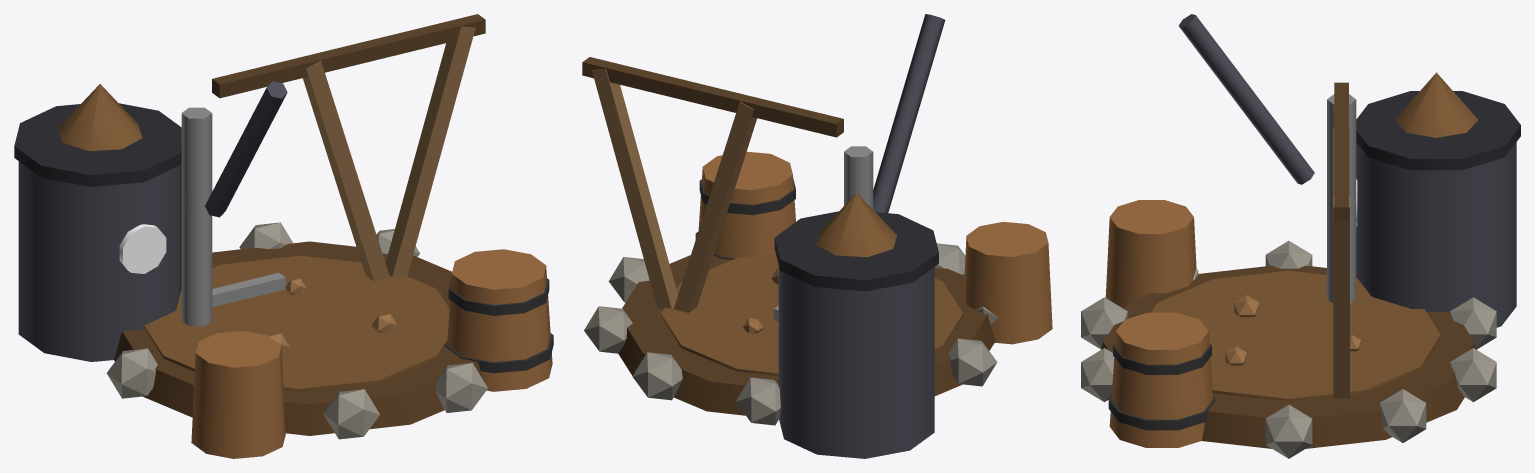
File: level3.glb
3 views of the same model, side by side, from view 1: azimuth 30°, elevation 25°; view 2: azimuth 150°, elevation 25°; view 3: azimuth 270°, elevation 25° (orthographic). The views are drawn at different scales.
Visible parts, largest first — view 1: object 26, object 2, object 1, object 24, object 11, object 27, object 9, object 7, lever, object 6, object 29, object 25 (+8 smaller); view 2: object 26, object 2, object 1, object 24, object 27, object 11, object 7, lever, object 6, object 25, object 29, object 22 (+7 smaller); view 3: object 26, object 2, object 1, object 11, object 27, object 24, object 25, object 29, object 7, object 9, lever, object 14 (+9 smaller).
Boxes of the visible parts, x1=… form: object 26: x1=18, y1=160, x2=181, y2=361; object 2: x1=144, y1=255, x2=449, y2=391; object 1: x1=114, y1=241, x2=483, y2=435; object 24: x1=191, y1=331, x2=285, y2=458; object 11: x1=447, y1=249, x2=552, y2=391; object 27: x1=14, y1=103, x2=181, y2=186; object 9: x1=181, y1=107, x2=212, y2=326; object 7: x1=385, y1=26, x2=475, y2=277; lever: x1=212, y1=14, x2=485, y2=98; object 6: x1=303, y1=61, x2=389, y2=281; object 29: x1=58, y1=84, x2=142, y2=151; object 25: x1=205, y1=81, x2=287, y2=217; object 26: x1=778, y1=265, x2=934, y2=458; object 2: x1=661, y1=253, x2=962, y2=376; object 1: x1=618, y1=255, x2=995, y2=415; object 24: x1=963, y1=222, x2=1052, y2=344; object 27: x1=774, y1=211, x2=938, y2=291; object 11: x1=698, y1=151, x2=795, y2=257; object 7: x1=592, y1=69, x2=677, y2=309; lever: x1=582, y1=57, x2=843, y2=137; object 6: x1=674, y1=101, x2=756, y2=312; object 25: x1=873, y1=14, x2=945, y2=212; object 29: x1=816, y1=193, x2=897, y2=257; object 22: x1=632, y1=352, x2=682, y2=400; object 26: x1=1356, y1=142, x2=1516, y2=327; object 2: x1=1151, y1=270, x2=1440, y2=401; object 1: x1=1101, y1=265, x2=1476, y2=448; object 11: x1=1109, y1=312, x2=1213, y2=447; object 27: x1=1356, y1=91, x2=1520, y2=170; object 24: x1=1105, y1=200, x2=1196, y2=308; object 25: x1=1178, y1=14, x2=1314, y2=184; object 29: x1=1394, y1=72, x2=1478, y2=137; object 7: x1=1333, y1=196, x2=1349, y2=398; object 9: x1=1327, y1=94, x2=1356, y2=303; lever: x1=1334, y1=82, x2=1348, y2=220; object 14: x1=1265, y1=404, x2=1312, y2=458.
Bounding box in the file's own units: 2.39 × 1.87 × 2.34.
